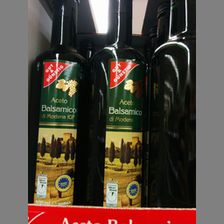vinegar: (91, 1, 151, 208), (29, 1, 89, 204)
